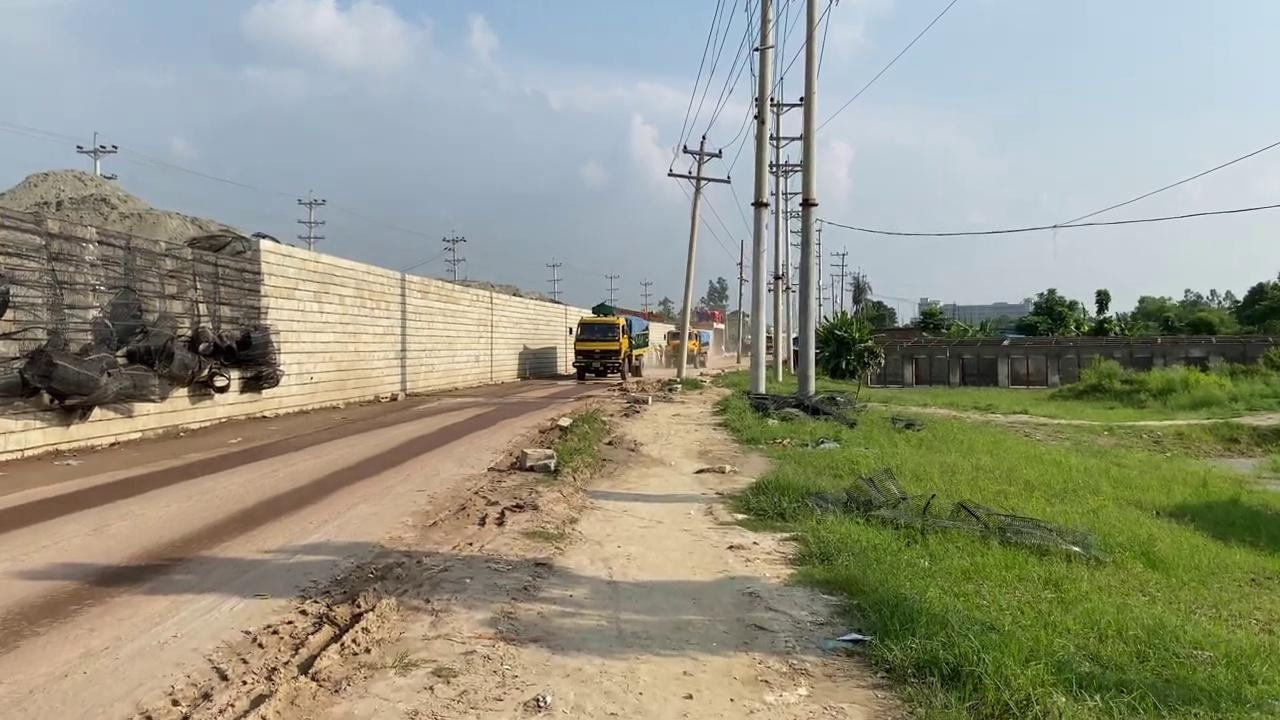Fence: (862, 333, 1277, 388)
Pole: (747, 1, 774, 393), (795, 0, 818, 398)
Rickshaw: (264, 355, 907, 720)
Tree: (571, 301, 649, 382), (663, 328, 710, 368)
Upstairs: (0, 185, 649, 460)
